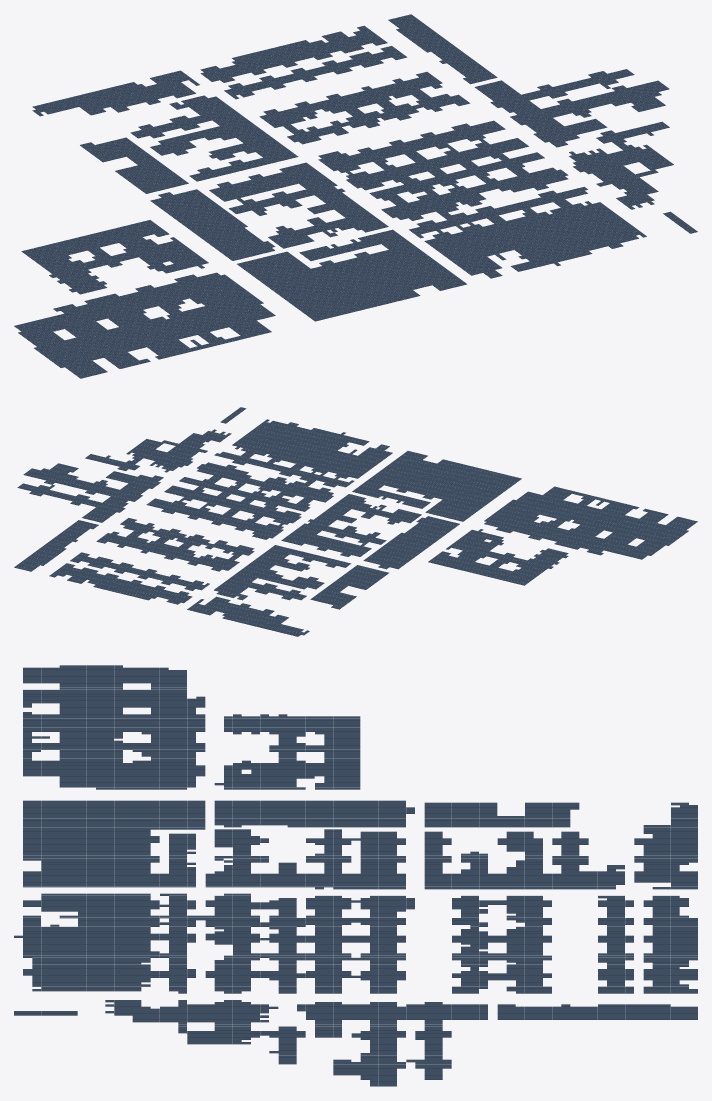
Rendered from SM_MPR_RoofSolar.fbx.
The picture shows the model from 3 angles, top to bottom: view 1: azimuth 30°, elevation 25°; view 2: azimuth 150°, elevation 25°; view 3: azimuth 270°, elevation 25°; orthographic projection. The views are drawn at different scales.
Visible parts, largest first — view 1: SM_MPR_RoofSolar; view 2: SM_MPR_RoofSolar; view 3: SM_MPR_RoofSolar.
Boxes of the visible parts, left/top/right/bottom form: SM_MPR_RoofSolar: left=14, top=14, right=697, bottom=378; SM_MPR_RoofSolar: left=14, top=407, right=697, bottom=636; SM_MPR_RoofSolar: left=14, top=665, right=697, bottom=1086.
Bounding box in the file's own units: 21274 × 14617 × 8.6.
